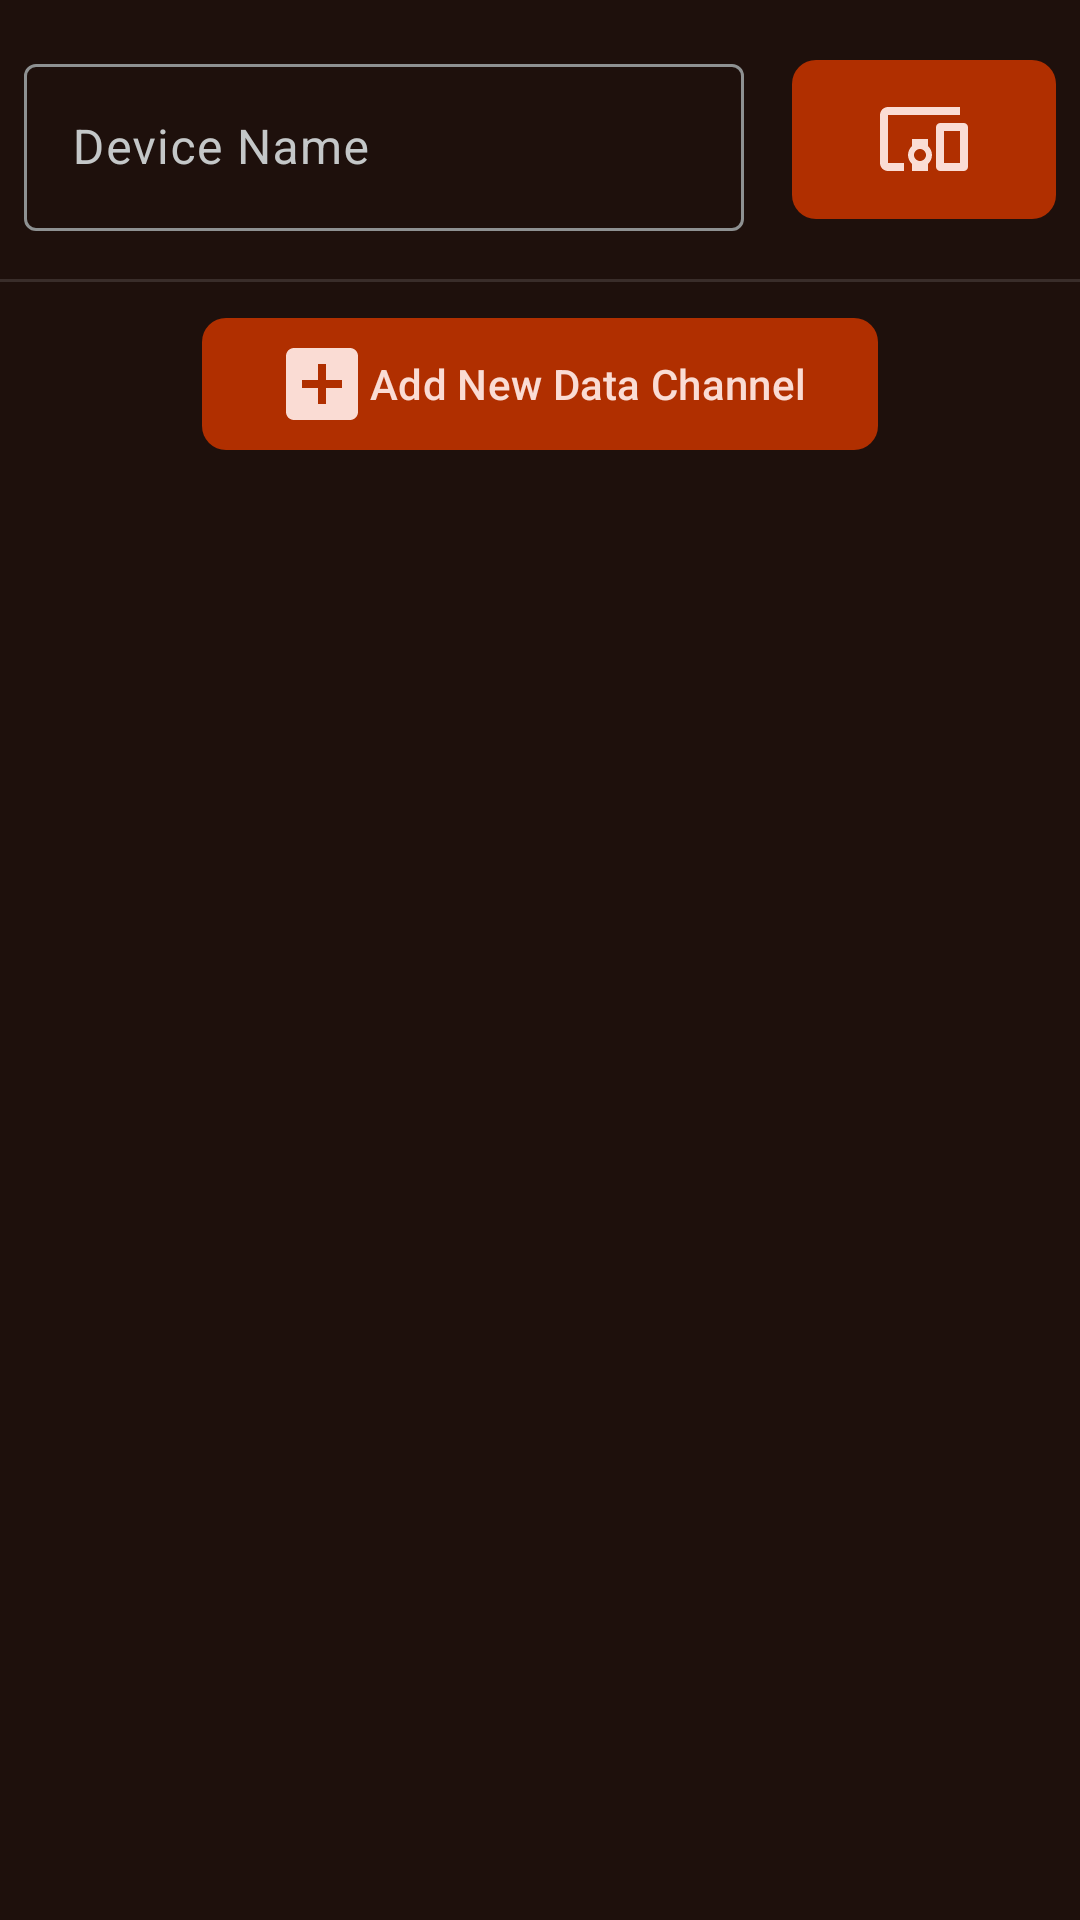

Named icons in this screenshot (1080x1920) and their centers, (x=x, y=y):
Select Device Icon: (x=924, y=139)
